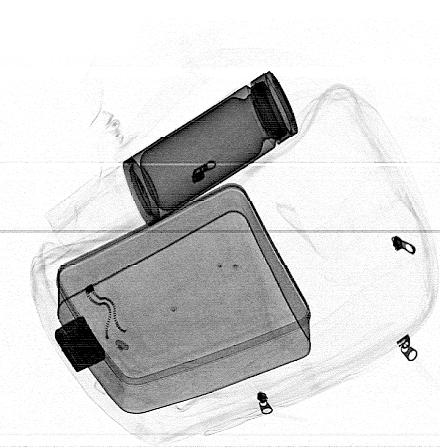Lighter: (54, 315, 106, 372)
